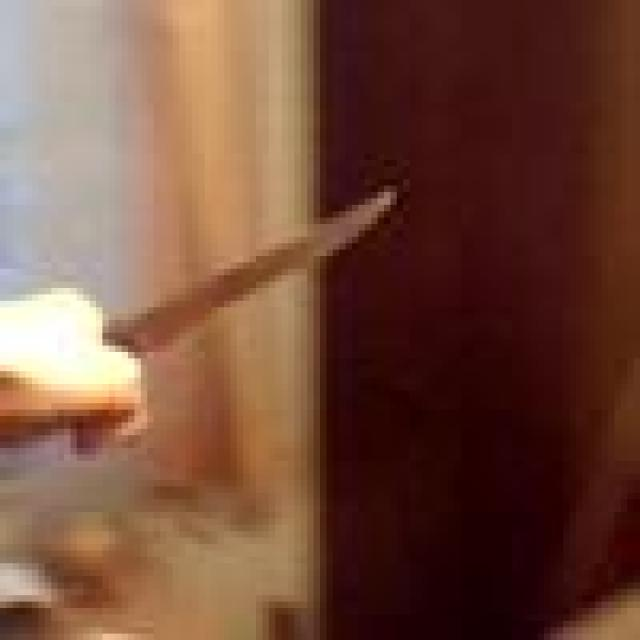knife: (111, 187, 399, 350)
